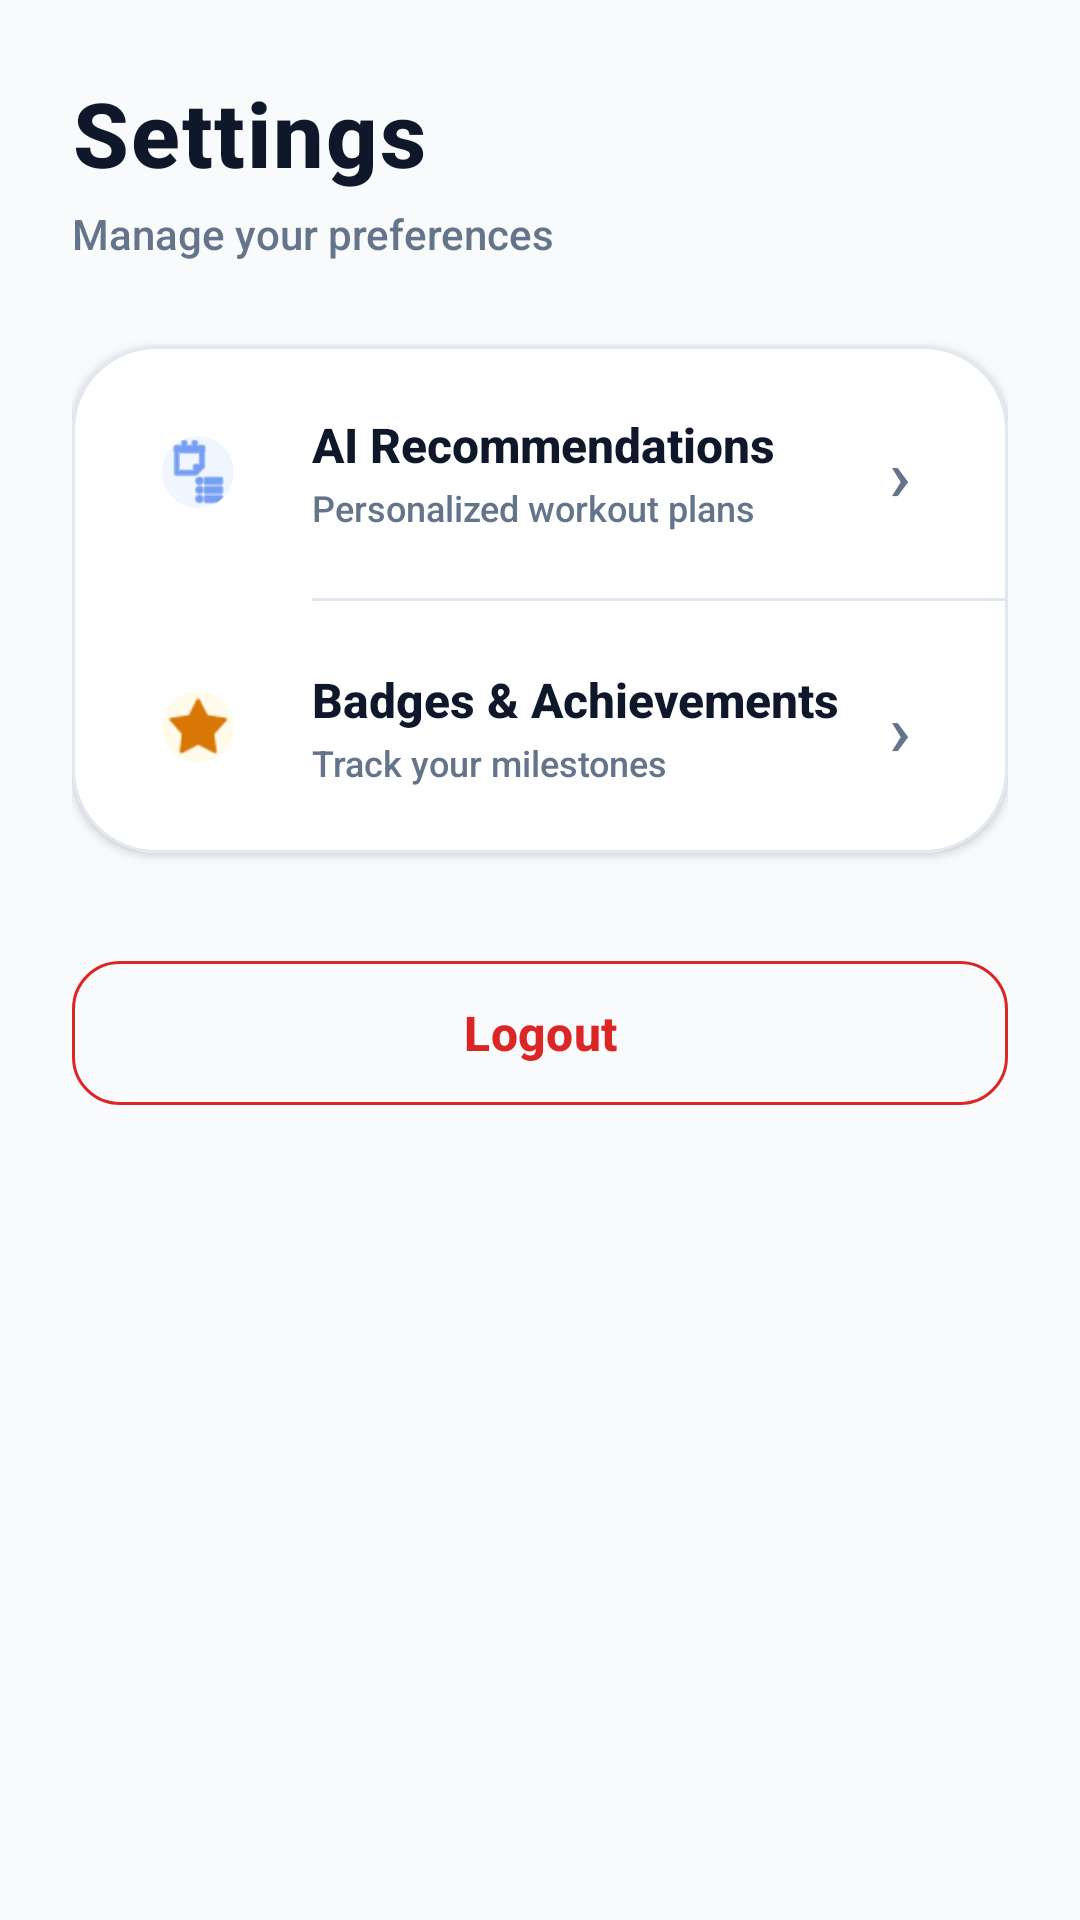

Locate icon controls on the screen. Image size 1080×1920, boxes as (x1, y1, x2, y2).
agenda: (162, 436, 234, 508)
star on: (168, 697, 228, 755)
